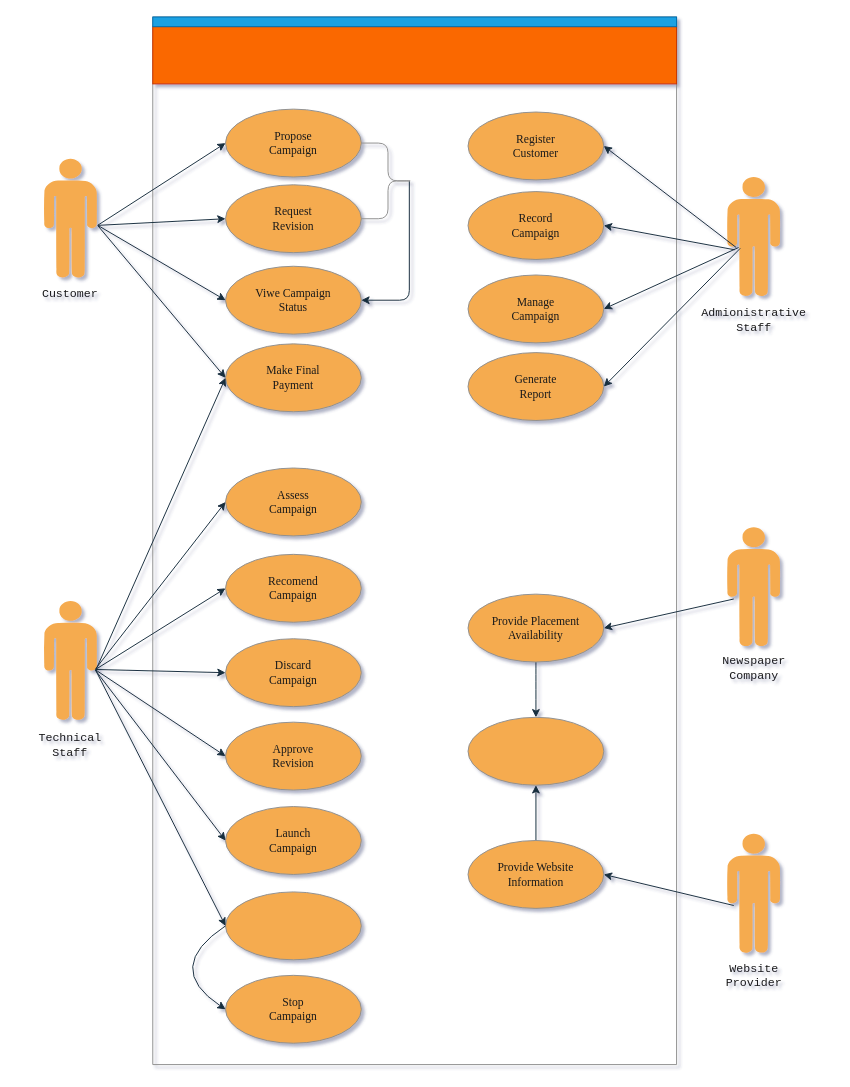
This 850x1087 diagram has some shape labels left out. Here are the shapes that lost their labels. From the top down, the centre of each, then its label:
At point 414,55: "Advertisement Campaign Management System".
At point 535,750: "Create Advertisement".
At point 293,925: "Create Ad".
